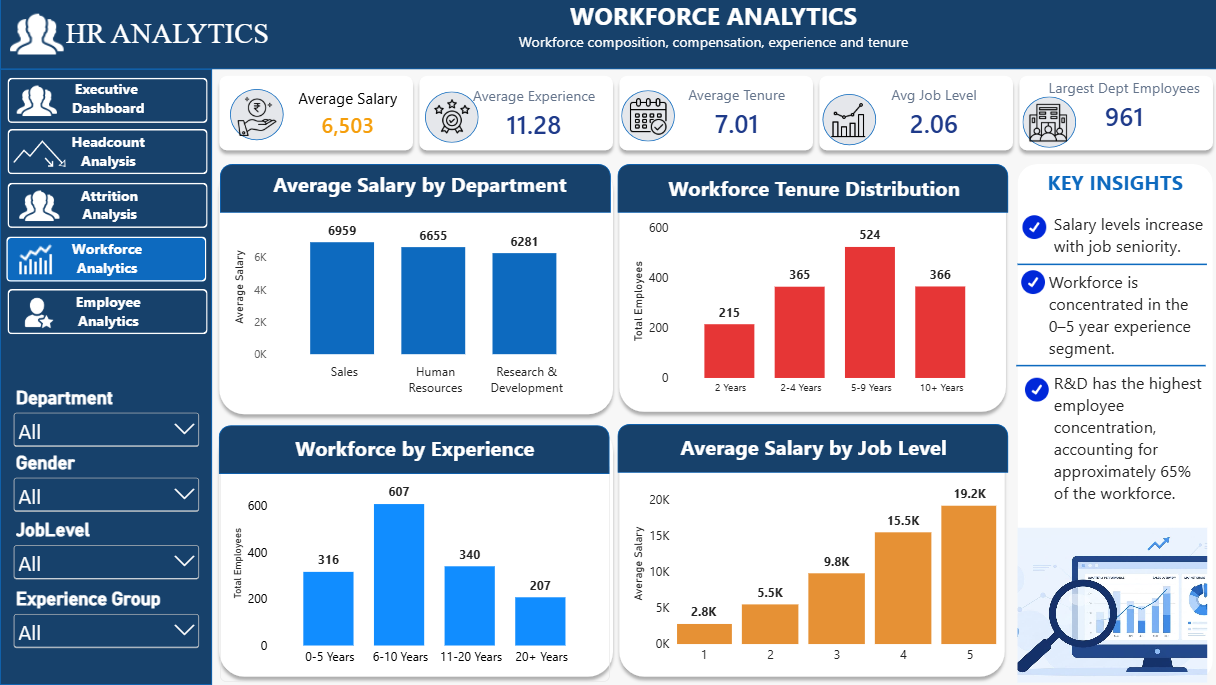

Layout of this report page (visuals, bound fields, positions):
{"tool":"powerbi","page":{"name":"WORKFORCE ANALYTICS","canvas":[1600,900],"ordinal":3},"visuals":[{"type":"shape","box":[0,92.2,278.1,807.8],"z":0},{"type":"shape","box":[0,0,1600,92.2],"z":1000},{"type":"shape","box":[278.1,92.2,271.9,115.6],"z":2000},{"type":"shape","box":[540.6,92.2,271.9,115.6],"z":3000},{"type":"shape","box":[803.1,92.2,271.9,115.6],"z":4000},{"type":"shape","box":[1065.6,92.2,271.9,115.6],"z":5000},{"type":"shape","box":[1328.1,92.2,271.9,115.6],"z":6000},{"type":"shape","box":[278.1,207.8,534.4,345.3],"z":7000},{"type":"shape","box":[803.1,207.8,525,342.2],"z":8000},{"type":"shape","box":[9.4,103.1,262.5,59.4],"z":9000},{"type":"shape","box":[278.1,550,534.4,346.9],"z":10000},{"type":"shape","box":[803.1,550,523.4,346.9],"z":11000},{"type":"shape","box":[1334.4,215.6,256.2,676.6],"z":12000},{"type":"cardVisual","fields":{"Data":["_Measures.Average Salary"]},"box":[371.9,101.6,168.8,98.4],"z":13000},{"type":"cardVisual","fields":{"Data":["_Measures.Average Experience"]},"box":[598.5,101.5,204.6,98.5],"z":14000},{"type":"cardVisual","fields":{"Data":["_Measures.Average Tenure"]},"box":[867.2,100,198.4,98.4],"z":15000},{"type":"cardVisual","fields":{"Data":["_Measures.Avg Job Level"]},"box":[1123.4,100,204.7,98.4],"z":16000},{"type":"cardVisual","fields":{"Data":["_Measures.Largest Departmennt Employees"]},"box":[1359.4,92.2,231.2,98.4],"z":17000},{"type":"shape","box":[301.6,118.8,70.3,67.2],"z":18000},{"type":"shape","box":[556.9,121.5,70.3,67.2],"z":19000},{"type":"columnChart","fields":{"Category":["HR Dataset.Department"],"Y":["_Measures.Average Salary"]},"box":[290.8,266.2,509.2,273.8],"z":20000},{"type":"columnChart","fields":{"Category":["HR Dataset.Company Tenure Group"],"Y":["_Measures.Total Employees"]},"box":[812.3,269.2,509.2,270.8],"z":21000},{"type":"columnChart","fields":{"Category":["HR Dataset.Experience Group"],"Y":["_Measures.Total Employees"]},"box":[289.1,607.8,510.9,287.5],"z":22000},{"type":"columnChart","fields":{"Category":["HR Dataset.JobLevel"],"Y":["_Measures.Average Salary"]},"box":[812.5,607.8,509.4,284.4],"z":23000},{"type":"shape","box":[289.1,215.6,512.5,64.1],"z":24000},{"type":"shape","box":[809.4,217.2,512.5,64.1],"z":25000},{"type":"shape","box":[287.5,559.4,512.5,64.1],"z":26000},{"type":"shape","box":[809.4,557.8,512.5,64.1],"z":27000},{"type":"slicer","fields":{"Values":["HR Dataset.Gender"]},"box":[12.5,593.8,253.1,82.8],"z":28000},{"type":"slicer","fields":{"Values":["HR Dataset.JobLevel"]},"box":[12.5,681.2,253.1,82.8],"z":29000},{"type":"slicer","fields":{"Values":["HR Dataset.Experience Group"]},"box":[12.5,771.9,253.1,82.8],"z":30000},{"type":"shape","box":[9.4,240.6,262.5,59.4],"z":31000},{"type":"shape","box":[7.8,310.9,262.5,59.4],"z":32000},{"type":"shape","box":[9.4,379.7,262.5,59.4],"z":33000},{"type":"textbox","box":[10.9,104.7,260.9,53.1],"z":34000},{"type":"textbox","box":[12.5,243.8,260.9,53.1],"z":35000},{"type":"textbox","box":[9.4,314.1,260.9,53.1],"z":36000},{"type":"textbox","box":[10.9,382.8,260.9,53.1],"z":37000},{"type":"textbox","box":[550,0,770.3,92.2],"z":38000},{"type":"textbox","box":[82.8,23.4,271.9,68.8],"z":39000},{"type":"textbox","box":[314.1,225,471.9,45.3],"z":40000},{"type":"textbox","box":[868,230,416,52],"z":41000},{"type":"textbox","box":[307.8,570.3,471.9,45.3],"z":42000},{"type":"textbox","box":[831.2,568.8,471.9,45.3],"z":43000},{"type":"textbox","box":[1337.5,221.9,250,45.3],"z":44000},{"type":"textbox","box":[1382,280.3,204.9,60.7],"z":45000},{"type":"textbox","box":[1375.4,355.7,206,118],"z":46000},{"type":"textbox","box":[1382,488.5,201.6,186.9],"z":47000},{"type":"shape","box":[1334.4,341,248.4,14.1],"z":48000},{"type":"shape","box":[1332.8,473.8,248.4,14.1],"z":49000},{"type":"image","box":[310.9,115.6,51.6,75],"z":50000},{"type":"image","box":[567.7,116.9,51.6,75],"z":51000},{"type":"image","box":[12.5,9.4,70.3,75],"z":52000},{"type":"image","box":[1339.1,282.8,34.4,31.2],"z":53000},{"type":"image","box":[1337.7,355.7,34.4,31.2],"z":54000},{"type":"image","box":[1342.6,496.7,34.4,31.2],"z":55000},{"type":"image","box":[15.6,245.3,70.3,53.1],"z":56000},{"type":"image","box":[10.9,314.1,70.3,53.1],"z":57000},{"type":"image","box":[12.5,382.8,70.3,53.1],"z":58000},{"type":"image","box":[12.5,107.8,70.3,53.1],"z":59000},{"type":"image","box":[1334.4,693.8,248.4,203.1],"z":60000},{"type":"shape","box":[9.4,170.3,262.5,59.4],"z":61000},{"type":"textbox","box":[10.9,173.4,260.9,53.1],"z":62000},{"type":"image","box":[15.6,175,70.3,53.1],"z":63000},{"type":"slicer","fields":{"Values":["HR Dataset.Department"]},"box":[12.5,507.8,253.1,82.8],"z":64000},{"type":"shape","box":[815.6,119.2,70.3,67.2],"z":65000},{"type":"image","box":[824.9,116,51.6,75],"z":66000},{"type":"shape","box":[1078,124,70.3,67.2],"z":67000},{"type":"image","box":[1087.3,120.8,51.6,75],"z":68000},{"type":"shape","box":[1340.4,127.1,70.3,67.2],"z":69000},{"type":"image","box":[1349.7,124,51.6,75],"z":70000},{"type":"actionButton","box":[8.2,103.3,264.7,58.8],"z":70001},{"type":"actionButton","box":[11.5,170.5,264.7,58.8],"z":70002},{"type":"actionButton","box":[8.2,241,264.7,58.8],"z":70003},{"type":"actionButton","box":[6.6,378.7,264.7,58.8],"z":70004}]}

Visuals, with their boxes in screenshot pixels (x1, y1, x2, y2), scaled from the page's 1600x900 canvas onto the 1216x685 screenshot:
shape: (left=0, top=70, right=211, bottom=684)
shape: (left=0, top=0, right=1215, bottom=70)
shape: (left=211, top=70, right=418, bottom=158)
shape: (left=411, top=70, right=618, bottom=158)
shape: (left=610, top=70, right=817, bottom=158)
shape: (left=810, top=70, right=1016, bottom=158)
shape: (left=1009, top=70, right=1215, bottom=158)
shape: (left=211, top=158, right=618, bottom=421)
shape: (left=610, top=158, right=1009, bottom=419)
shape: (left=7, top=78, right=207, bottom=124)
shape: (left=211, top=419, right=618, bottom=683)
shape: (left=610, top=419, right=1008, bottom=683)
shape: (left=1014, top=164, right=1209, bottom=679)
cardVisual - _Measures.Average Salary: (left=283, top=77, right=411, bottom=152)
cardVisual - _Measures.Average Experience: (left=455, top=77, right=610, bottom=152)
cardVisual - _Measures.Average Tenure: (left=659, top=76, right=810, bottom=151)
cardVisual - _Measures.Avg Job Level: (left=854, top=76, right=1009, bottom=151)
cardVisual - _Measures.Largest Departmennt Employees: (left=1033, top=70, right=1209, bottom=145)
shape: (left=229, top=90, right=283, bottom=142)
shape: (left=423, top=92, right=477, bottom=144)
columnChart - HR Dataset.Department x _Measures.Average Salary: (left=221, top=203, right=608, bottom=411)
columnChart - HR Dataset.Company Tenure Group x _Measures.Total Employees: (left=617, top=205, right=1004, bottom=411)
columnChart - HR Dataset.Experience Group x _Measures.Total Employees: (left=220, top=463, right=608, bottom=681)
columnChart - HR Dataset.JobLevel x _Measures.Average Salary: (left=618, top=463, right=1005, bottom=679)
shape: (left=220, top=164, right=609, bottom=213)
shape: (left=615, top=165, right=1005, bottom=214)
shape: (left=218, top=426, right=608, bottom=475)
shape: (left=615, top=425, right=1005, bottom=473)
slicer - HR Dataset.Gender: (left=10, top=452, right=202, bottom=515)
slicer - HR Dataset.JobLevel: (left=10, top=518, right=202, bottom=581)
slicer - HR Dataset.Experience Group: (left=10, top=588, right=202, bottom=651)
shape: (left=7, top=183, right=207, bottom=228)
shape: (left=6, top=237, right=205, bottom=282)
shape: (left=7, top=289, right=207, bottom=334)
textbox: (left=8, top=80, right=207, bottom=120)
textbox: (left=10, top=186, right=208, bottom=226)
textbox: (left=7, top=239, right=205, bottom=279)
textbox: (left=8, top=291, right=207, bottom=332)
textbox: (left=418, top=0, right=1003, bottom=70)
textbox: (left=63, top=18, right=270, bottom=70)
textbox: (left=239, top=171, right=597, bottom=206)
textbox: (left=660, top=175, right=976, bottom=215)
textbox: (left=234, top=434, right=593, bottom=469)
textbox: (left=632, top=433, right=990, bottom=467)
textbox: (left=1016, top=169, right=1206, bottom=203)
textbox: (left=1050, top=213, right=1206, bottom=260)
textbox: (left=1045, top=271, right=1202, bottom=361)
textbox: (left=1050, top=372, right=1204, bottom=514)
shape: (left=1014, top=260, right=1203, bottom=270)
shape: (left=1013, top=361, right=1202, bottom=371)
image: (left=236, top=88, right=276, bottom=145)
image: (left=431, top=89, right=471, bottom=146)
image: (left=10, top=7, right=63, bottom=64)
image: (left=1018, top=215, right=1044, bottom=239)
image: (left=1017, top=271, right=1043, bottom=294)
image: (left=1020, top=378, right=1047, bottom=402)
image: (left=12, top=187, right=65, bottom=227)
image: (left=8, top=239, right=62, bottom=279)
image: (left=10, top=291, right=63, bottom=332)
image: (left=10, top=82, right=63, bottom=122)
image: (left=1014, top=528, right=1203, bottom=683)
shape: (left=7, top=130, right=207, bottom=175)
textbox: (left=8, top=132, right=207, bottom=172)
image: (left=12, top=133, right=65, bottom=174)
slicer - HR Dataset.Department: (left=10, top=386, right=202, bottom=450)
shape: (left=620, top=91, right=673, bottom=142)
image: (left=627, top=88, right=666, bottom=145)
shape: (left=819, top=94, right=873, bottom=146)
image: (left=826, top=92, right=866, bottom=149)
shape: (left=1019, top=97, right=1072, bottom=148)
image: (left=1026, top=94, right=1065, bottom=151)
actionButton: (left=6, top=79, right=207, bottom=123)
actionButton: (left=9, top=130, right=210, bottom=175)
actionButton: (left=6, top=183, right=207, bottom=228)
actionButton: (left=5, top=288, right=206, bottom=333)
